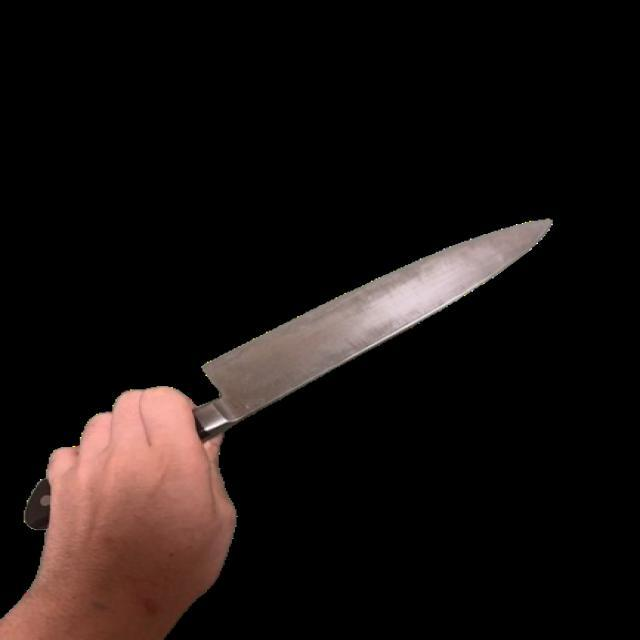knife: (6, 214, 557, 639)
